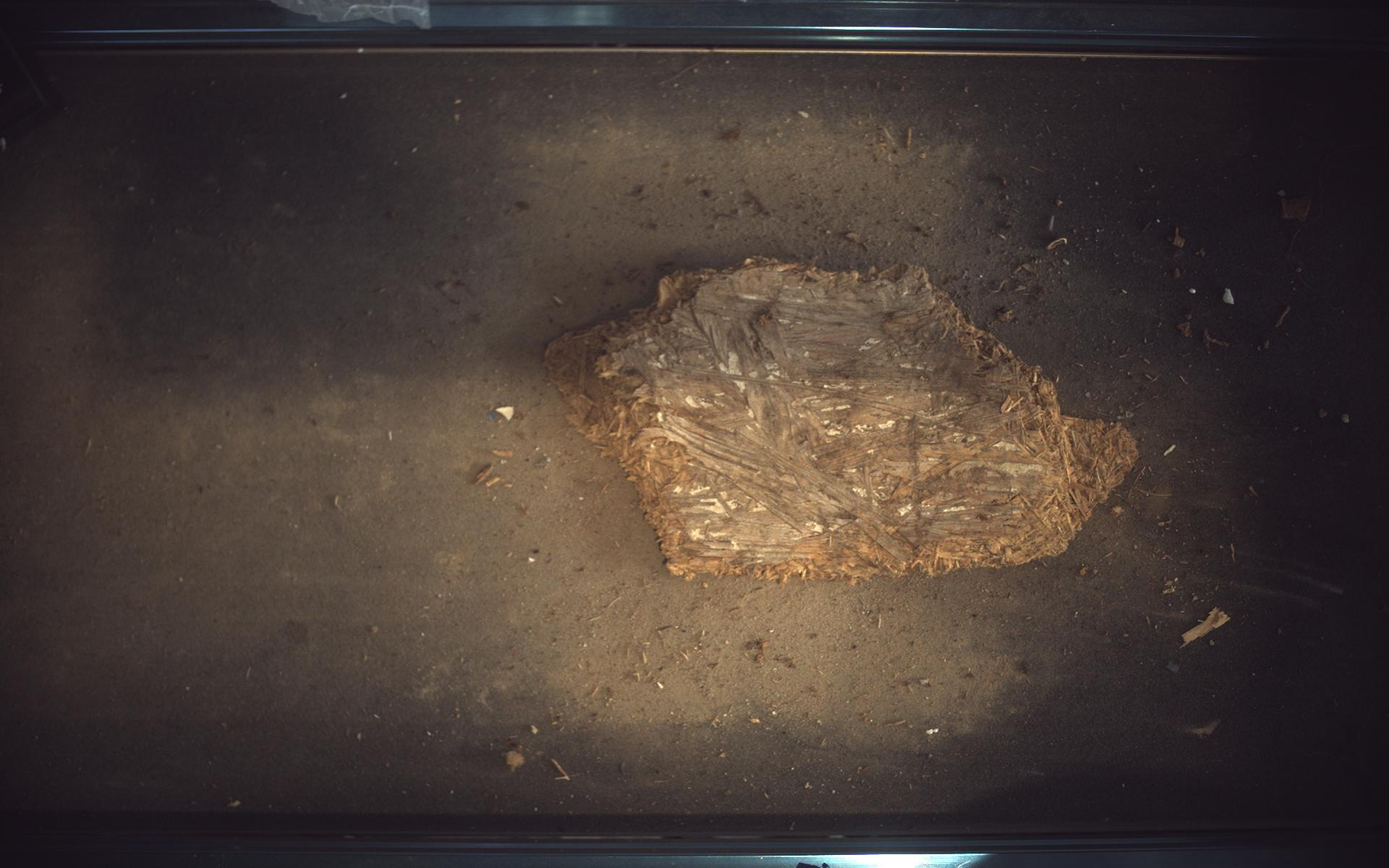wood: (545, 258, 1140, 582)
